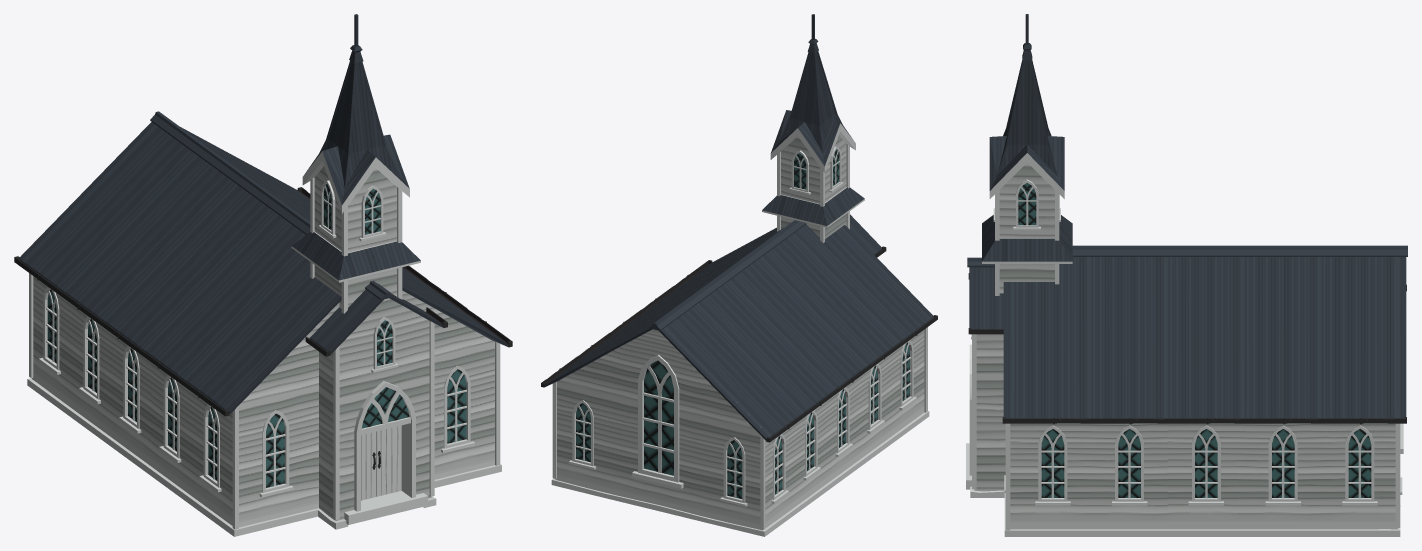
Rendered from Church.glb.
3 views of the same model, side by side, from view 1: azimuth 30°, elevation 25°; view 2: azimuth 150°, elevation 25°; view 3: azimuth 270°, elevation 25° (orthographic). The views are drawn at different scales.
Parts seen in each view (by area): view 1: SM_Bld_Church_01, SM_Bld_Church_Glass_01, SM_Bld_Church_Door_02, SM_Bld_Church_Door_01; view 2: SM_Bld_Church_01, SM_Bld_Church_Glass_01; view 3: SM_Bld_Church_01, SM_Bld_Church_Glass_01.
Part boxes in pixels (bbox=[...]): SM_Bld_Church_01: bbox=[14, 14, 512, 536]; SM_Bld_Church_Glass_01: bbox=[47, 184, 466, 487]; SM_Bld_Church_Door_02: bbox=[376, 425, 401, 496]; SM_Bld_Church_Door_01: bbox=[361, 431, 375, 500]; SM_Bld_Church_01: bbox=[541, 14, 937, 536]; SM_Bld_Church_Glass_01: bbox=[576, 149, 909, 498]; SM_Bld_Church_01: bbox=[966, 14, 1407, 536]; SM_Bld_Church_Glass_01: bbox=[1018, 183, 1371, 497].
Bounding box in the file's own units: 10.37 × 16.52 × 14.39.
Materials: 3 (3 with a texture image).
